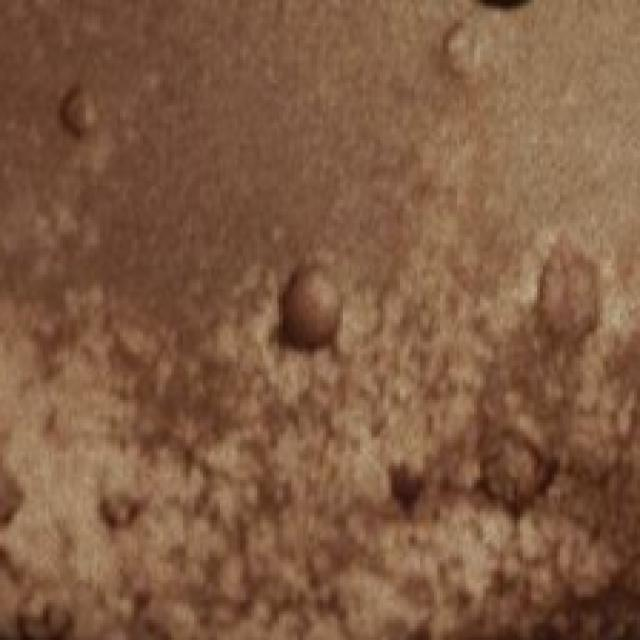Eczema: (380, 422, 562, 519), (529, 231, 605, 343), (266, 271, 348, 353), (441, 18, 491, 80), (48, 79, 96, 132)
